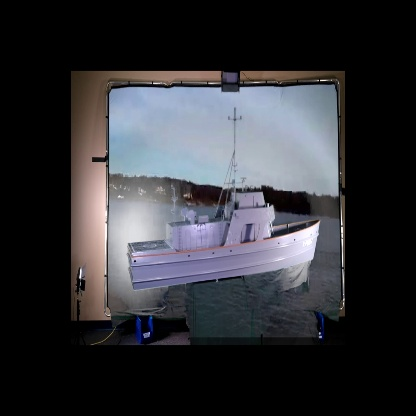YP689: (126, 107, 321, 291)
